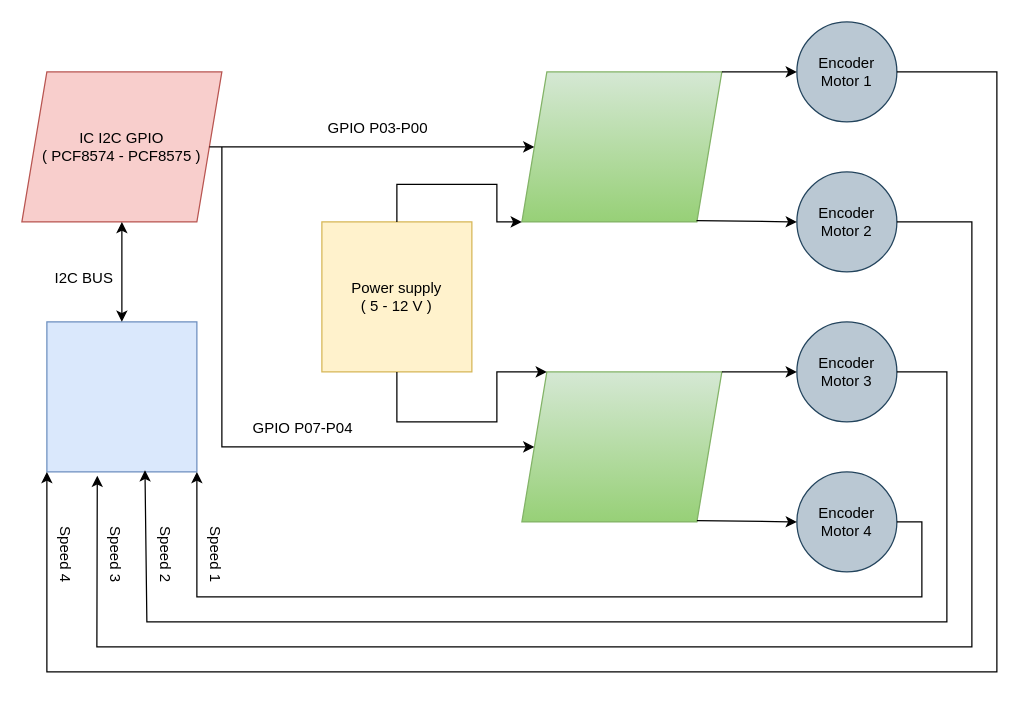
Image size: 1029x704. Some labels were removed from this diagram. The shapes that lost their labels are listed below. From the top down, each one's centre as x and y in pixels, then its label:
At [621,146]: "Motor driver IC 1 ( L298, L293N )".
At [121,396]: "Micro-controller".
At [621,446]: "Motor driver IC 2 ( L298, L293N )".
